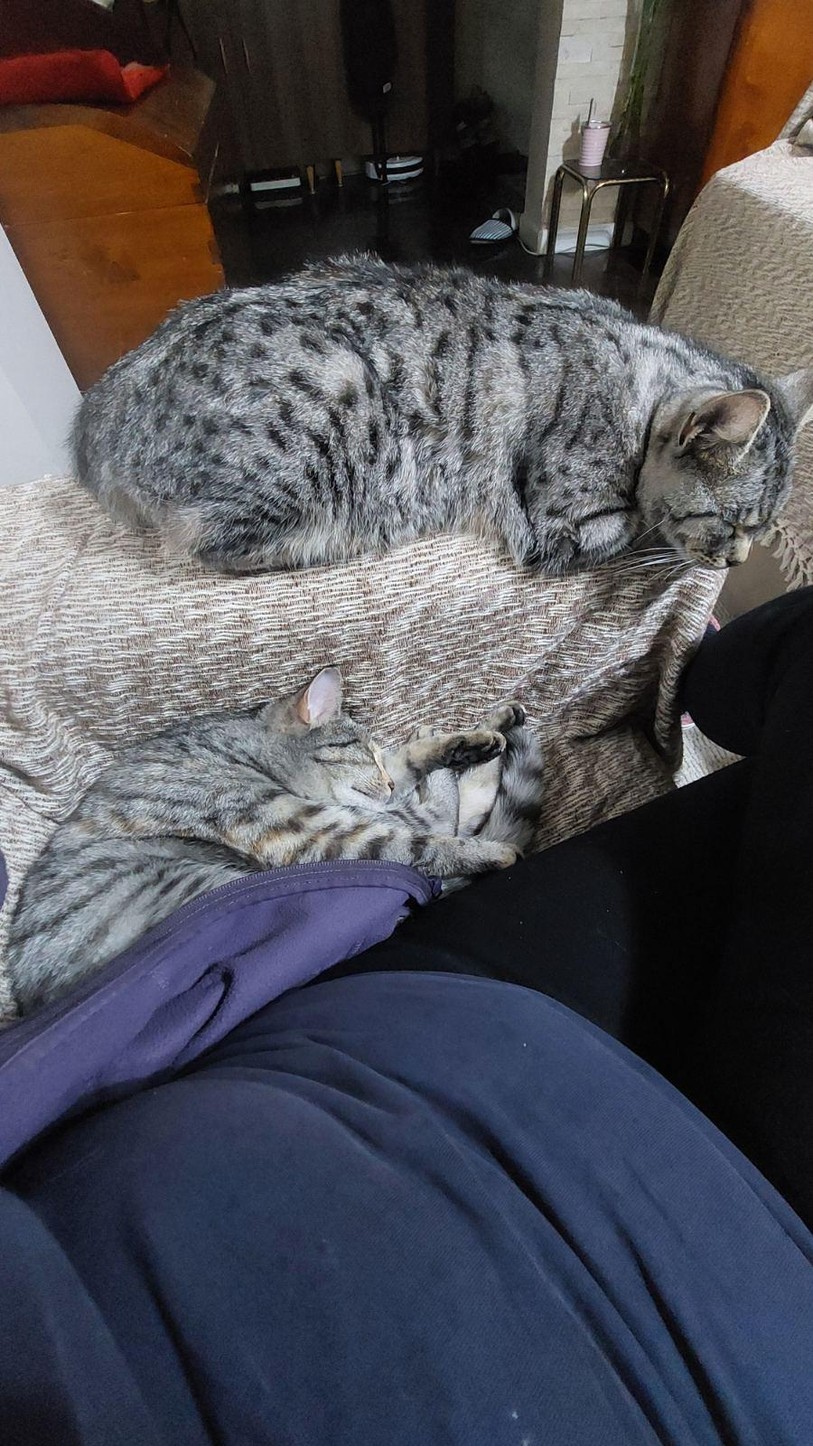macka: (73, 253, 813, 575), (10, 665, 539, 1031)
